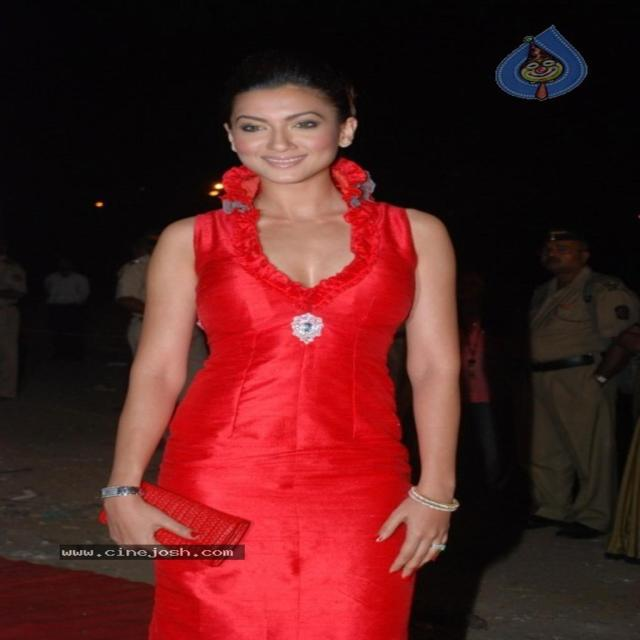Face: (229, 91, 361, 180)
